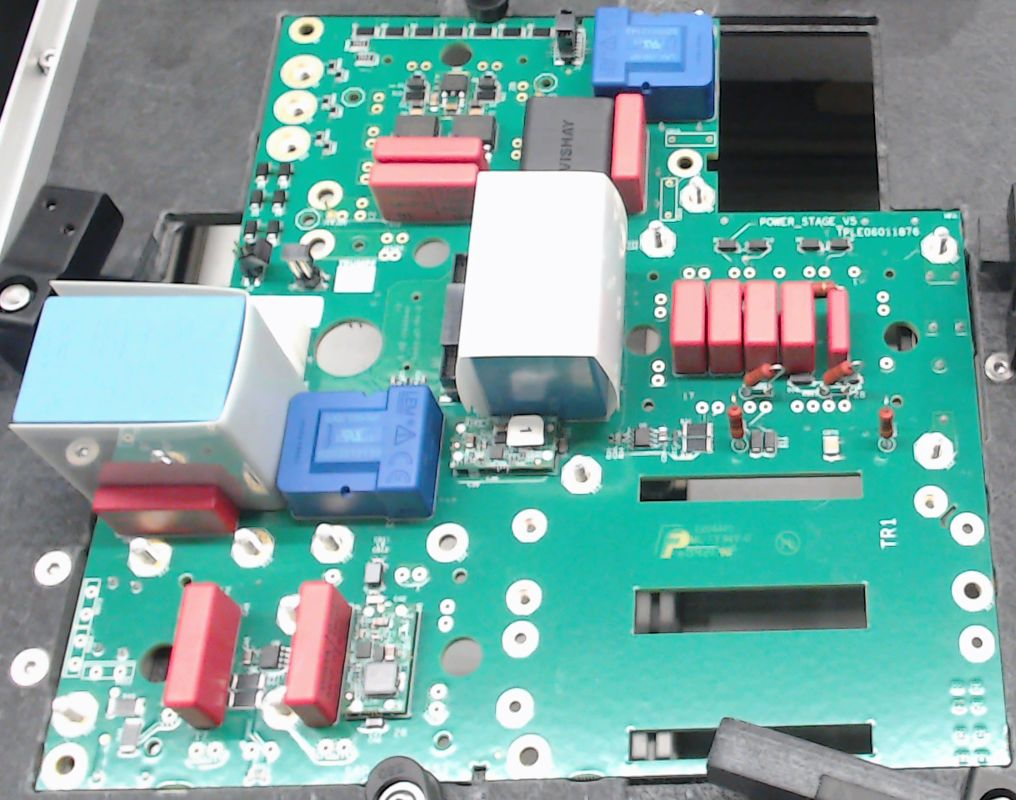comp1: (278, 384, 445, 520), (595, 5, 715, 120)
comp2: (164, 584, 241, 729), (283, 581, 353, 726), (91, 486, 239, 538), (367, 160, 477, 220), (610, 92, 648, 211), (741, 276, 779, 381), (668, 276, 707, 376), (706, 277, 744, 376), (777, 280, 815, 376), (372, 136, 483, 161), (829, 282, 851, 364)
comp3: (524, 96, 614, 172)
comp4: (6, 277, 307, 510), (456, 171, 629, 422)
